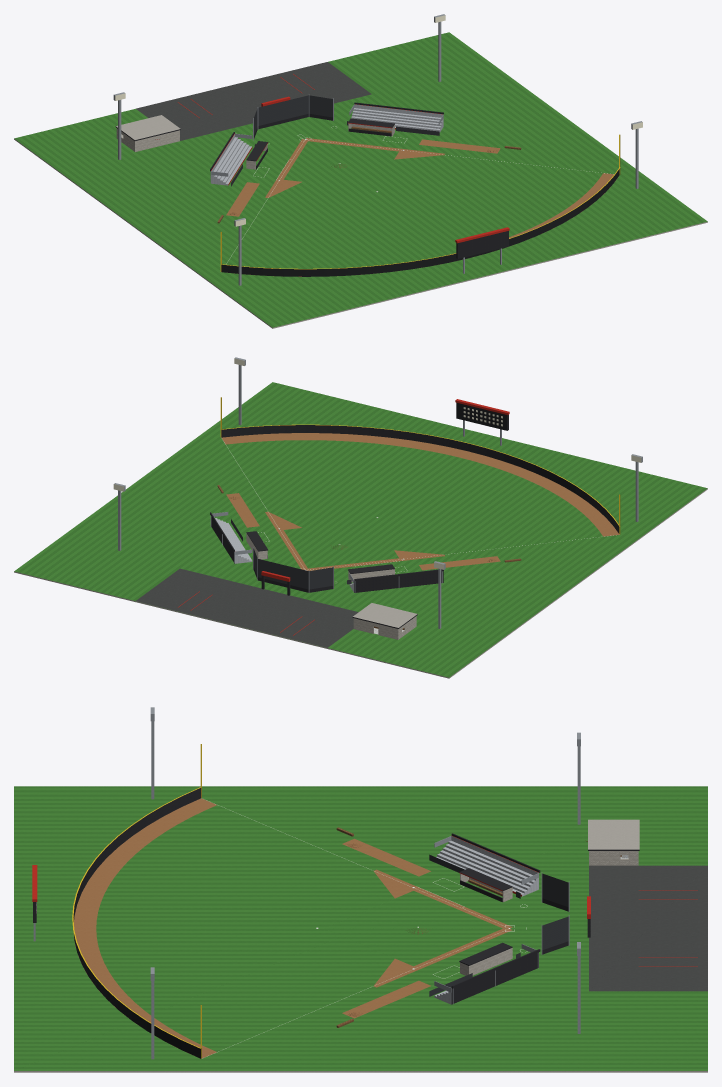
The model's file is ballpark_4.glb.
3 renders of one model, top to bottom at view 1: azimuth 30°, elevation 25°; view 2: azimuth 150°, elevation 25°; view 3: azimuth 270°, elevation 25°, orthographic. The views are drawn at different scales.
Parts seen in each view (by area): view 1: ballpark_4; view 2: ballpark_4; view 3: ballpark_4.
Boxes of the visible parts, x1,y1,x2,y2 form: ballpark_4: (14,14,707,328); ballpark_4: (14,357,707,678); ballpark_4: (14,707,707,1072).
Bounding box in the file's own units: 136 × 19.9 × 140.
17 materials, 17 textured.
